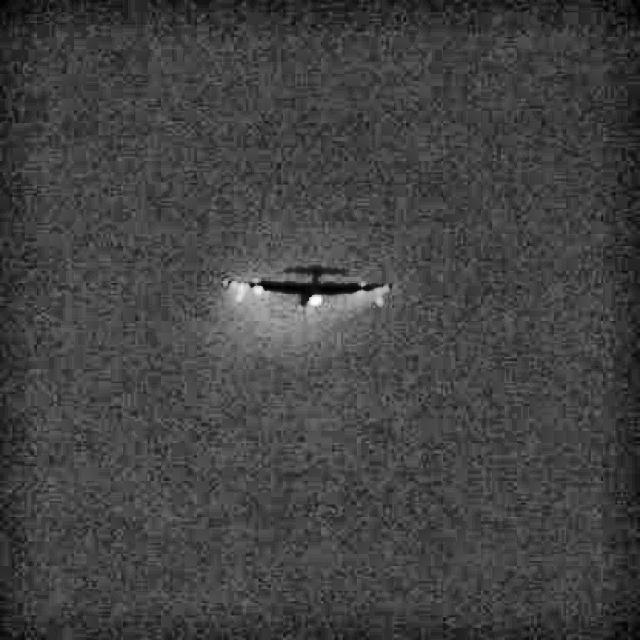US2: (222, 266, 393, 316)
